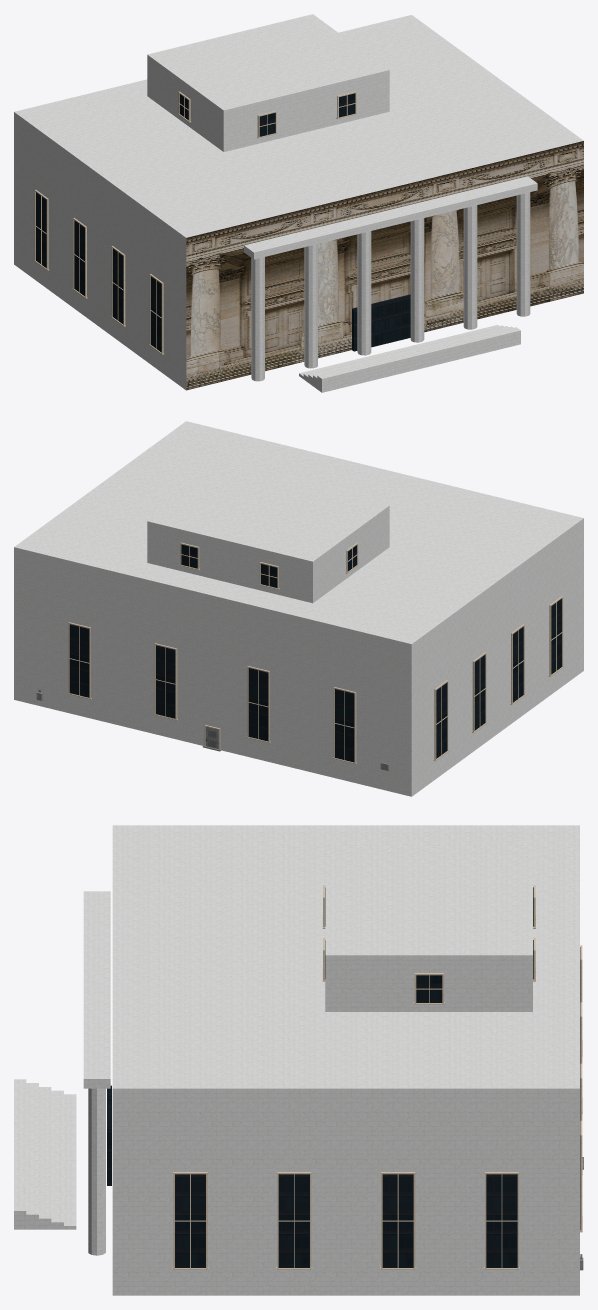
Rendered from opera-house_lod0.gltf.
3 renders of one model, top to bottom at view 1: azimuth 30°, elevation 25°; view 2: azimuth 150°, elevation 25°; view 3: azimuth 270°, elevation 25°, orthographic. The views are drawn at different scales.
Visible parts, largest first — view 1: opera-house_tier0, opera-house_front, opera-house_tier1, opera-house_colonnade, opera-house_stairs, opera-house_fen_07-glass-curtain-blue_1_t, opera-house_fen_04-limestone_0, opera-house__entry_doors; view 2: opera-house_tier0, opera-house_tier1, opera-house_fen_07-glass-curtain-blue_1_t, opera-house_fen_04-limestone_0; view 3: opera-house_tier0, opera-house_tier1, opera-house_fen_07-glass-curtain-blue_1_t, opera-house_stairs, opera-house_colonnade, opera-house_fen_04-limestone_0.
Boxes of the visible parts, x1,y1,x2,y2 form: opera-house_tier0: (14, 15, 583, 390); opera-house_front: (186, 141, 583, 390); opera-house_tier1: (147, 14, 389, 151); opera-house_colonnade: (244, 176, 537, 381); opera-house_stairs: (299, 325, 520, 392); opera-house_fen_07-glass-curtain-blue_1_t: (36, 93, 355, 352); opera-house_fen_04-limestone_0: (34, 91, 357, 354); opera-house__entry_doors: (352, 294, 410, 351); opera-house_tier0: (14, 421, 583, 796); opera-house_tier1: (147, 465, 389, 603); opera-house_fen_07-glass-curtain-blue_1_t: (69, 544, 561, 762); opera-house_fen_04-limestone_0: (67, 542, 563, 764); opera-house_tier0: (112, 825, 579, 1295); opera-house_tier1: (325, 845, 532, 1011); opera-house_fen_07-glass-curtain-blue_1_t: (175, 887, 580, 1267); opera-house_stairs: (14, 1079, 76, 1229); opera-house_colonnade: (83, 891, 110, 1255); opera-house_fen_04-limestone_0: (172, 885, 582, 1269).
Size of the model in its own units: 60.55 by 28.02 by 54.9.
